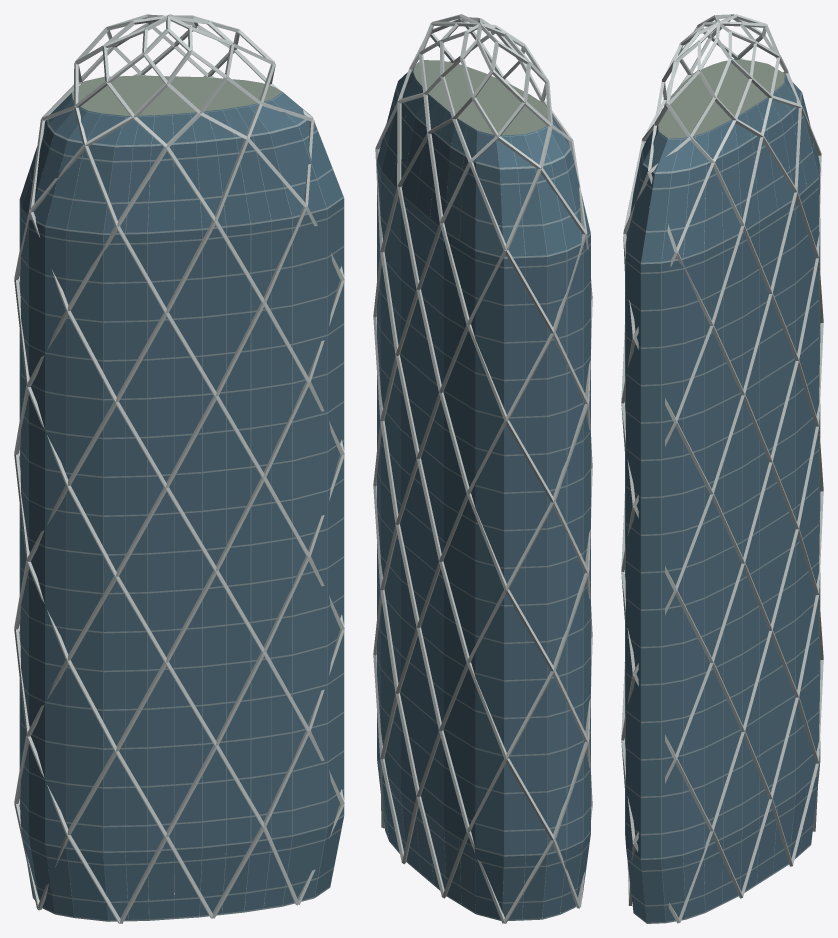
The model's file is tour-d2-far.glb.
The picture shows the model from 3 angles, left to right: view 1: azimuth 30°, elevation 25°; view 2: azimuth 150°, elevation 25°; view 3: azimuth 270°, elevation 25°; orthographic projection. The views are drawn at different scales.
Parts seen in each view (by area): view 1: tour-d2-0-glass, tour-d2-0-exoskeleton, tour-d2-0-frame, tour-d2-0-roof; view 2: tour-d2-0-glass, tour-d2-0-exoskeleton, tour-d2-0-frame, tour-d2-0-roof; view 3: tour-d2-0-glass, tour-d2-0-exoskeleton, tour-d2-0-frame, tour-d2-0-roof.
Part boxes in pixels (<box>): tour-d2-0-glass: <box>19,92,343,920</box>; tour-d2-0-exoskeleton: <box>14,14,344,923</box>; tour-d2-0-frame: <box>19,92,344,921</box>; tour-d2-0-roof: <box>72,75,282,115</box>; tour-d2-0-glass: <box>377,67,590,919</box>; tour-d2-0-exoskeleton: <box>373,14,592,923</box>; tour-d2-0-frame: <box>377,70,590,920</box>; tour-d2-0-roof: <box>413,60,548,135</box>; tour-d2-0-glass: <box>625,74,820,922</box>; tour-d2-0-exoskeleton: <box>621,14,823,923</box>; tour-d2-0-frame: <box>625,74,820,923</box>; tour-d2-0-roof: <box>658,59,784,138</box>.
Bounding box in the file's own units: 53.7 × 172 × 37.26.
